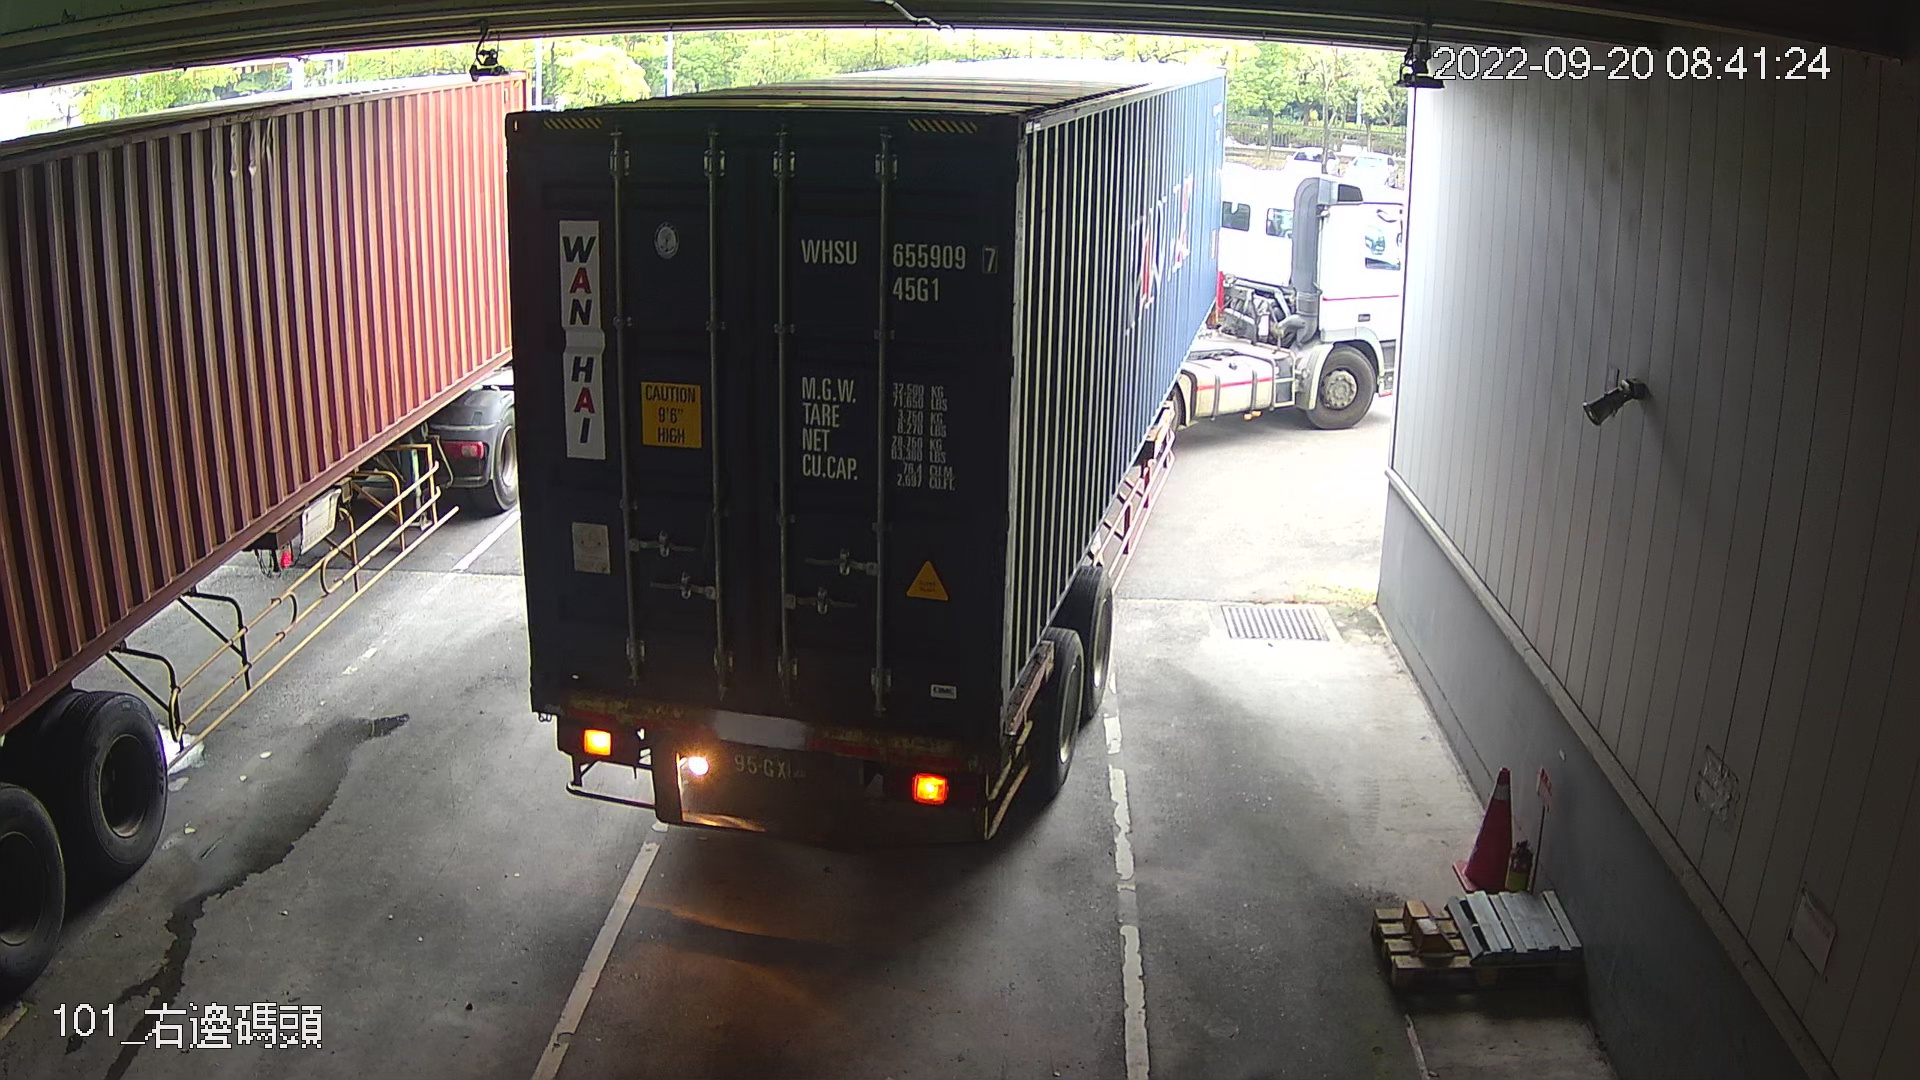container: (794, 225, 1009, 313)
